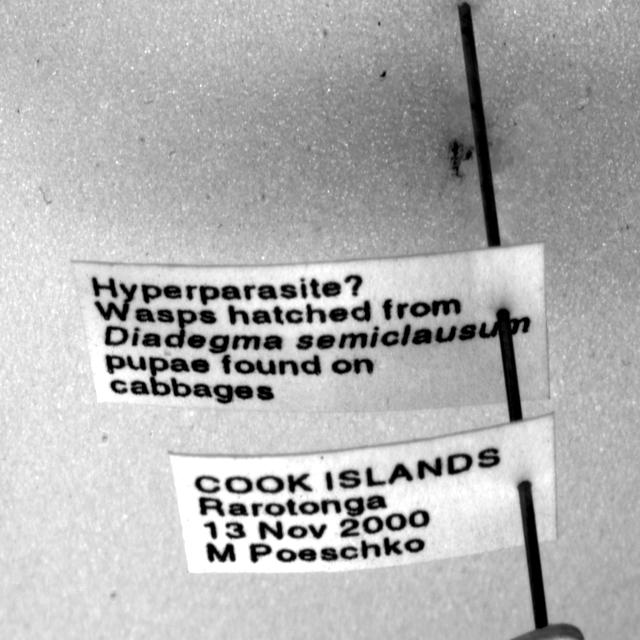typed_label: (74, 244, 549, 411), (170, 414, 558, 574)
